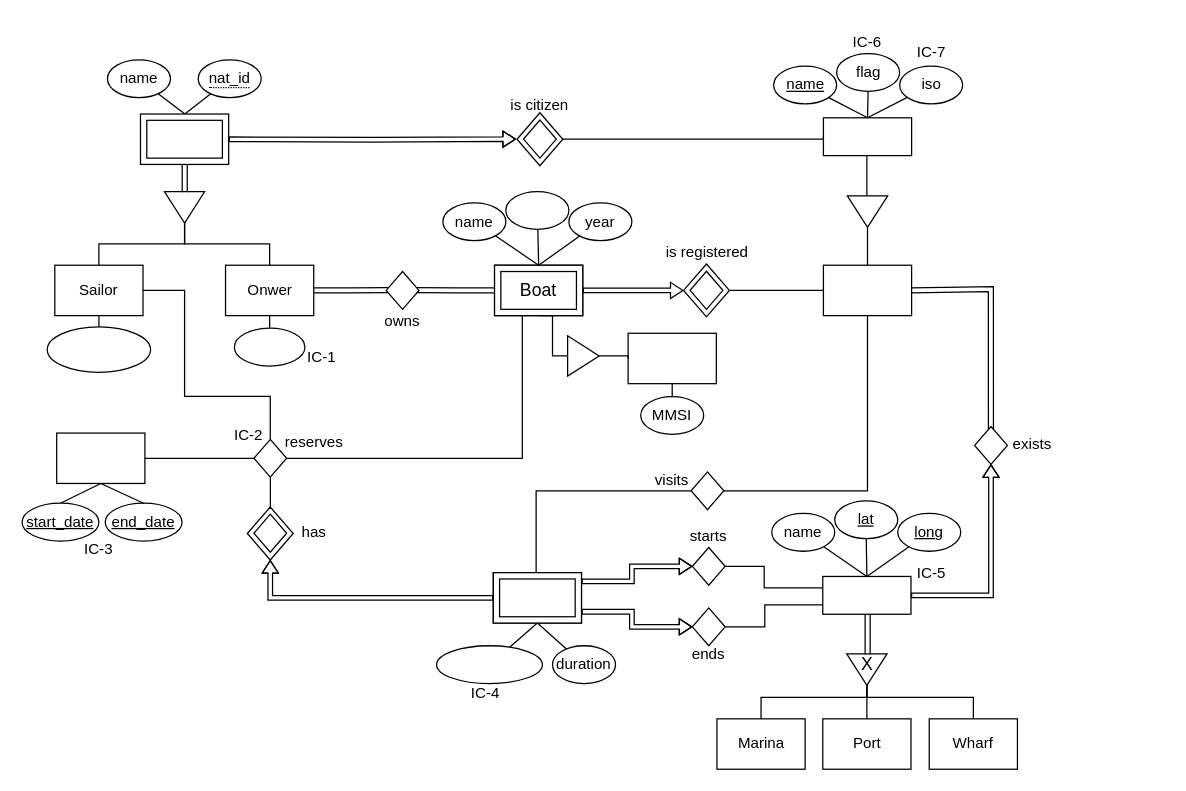
This 1186x791 diagram has some shape labels left out. Here are the shapes that lost their labels. From the top down, the centre of each, then its label:
At (184,138): "Person".
At (867,136): "Country".
At (537,209): "id".
At (867,290): "Juristiction Country".
At (98,349): "sail_weekends".
At (269,346): "birthdate".
At (671,358): "Boat_VHF".
At (100,457): "Reservation Period".
At (536,597): "Trip".
At (866,594): "Location".
At (488,664): "take-off_date".
